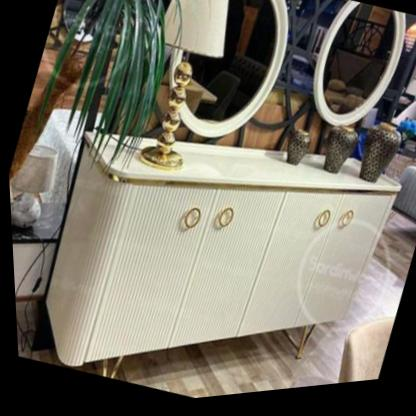Sideboard: (42, 133, 400, 382)
